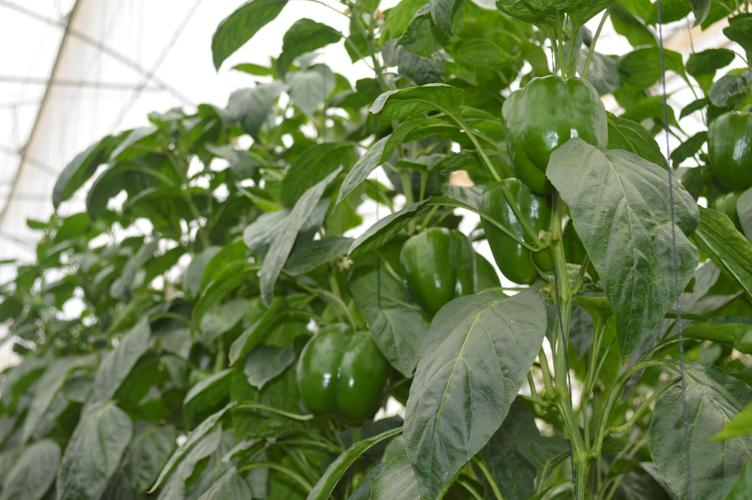BellPepper: (488, 71, 629, 186), (294, 321, 395, 424), (474, 172, 558, 276), (391, 230, 484, 320), (685, 107, 752, 186)
